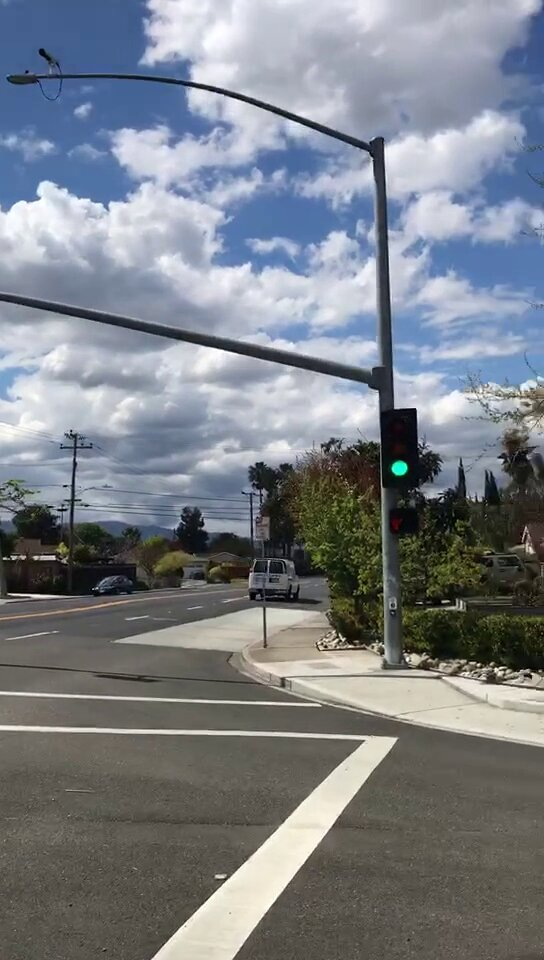green_light: (383, 409, 416, 489)
